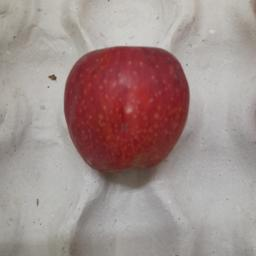Apple Ripe: (54, 39, 194, 179)
